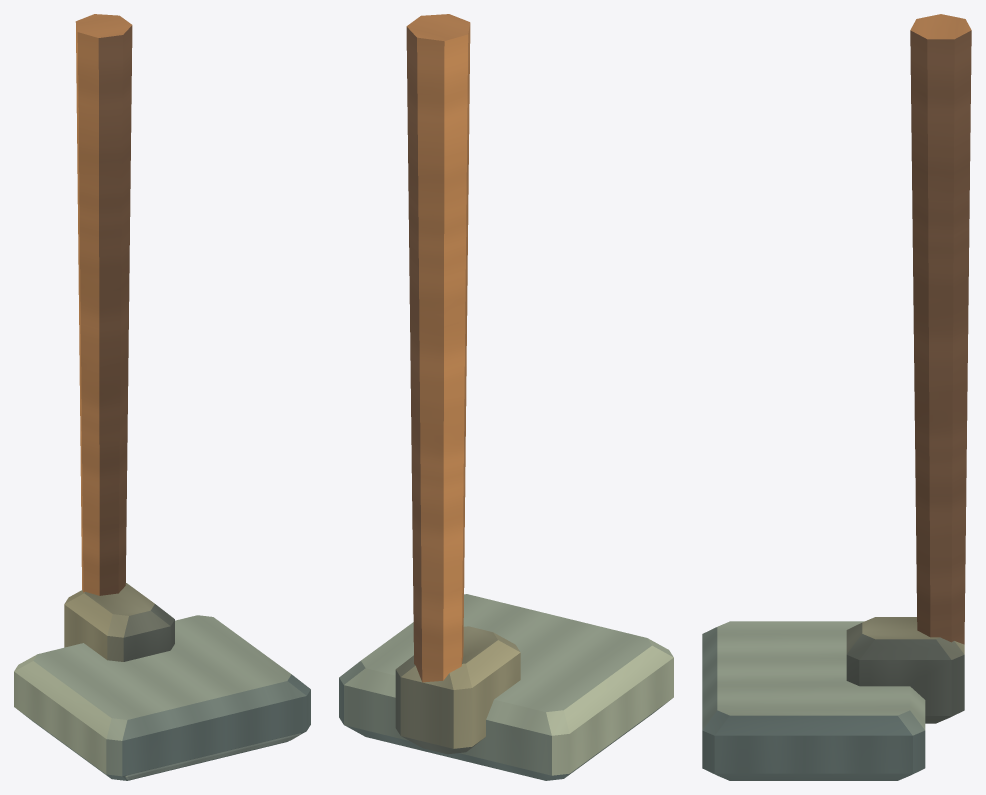
The model's file is hoe.glb.
3 renders of one model, left to right at view 1: azimuth 30°, elevation 25°; view 2: azimuth 150°, elevation 25°; view 3: azimuth 270°, elevation 25°, orthographic. The views are drawn at different scales.
Visible parts, largest first — view 1: Gärtnerfigur · Gartenhacke; view 2: Gärtnerfigur · Gartenhacke; view 3: Gärtnerfigur · Gartenhacke.
Boxes of the visible parts, <box> form: Gärtnerfigur · Gartenhacke: <box>14,14,310,780</box>; Gärtnerfigur · Gartenhacke: <box>339,14,673,780</box>; Gärtnerfigur · Gartenhacke: <box>702,14,971,780</box>.
Size of the model in its own units: 0.193 by 0.5945 by 0.2054.
2 materials, 2 textured.
